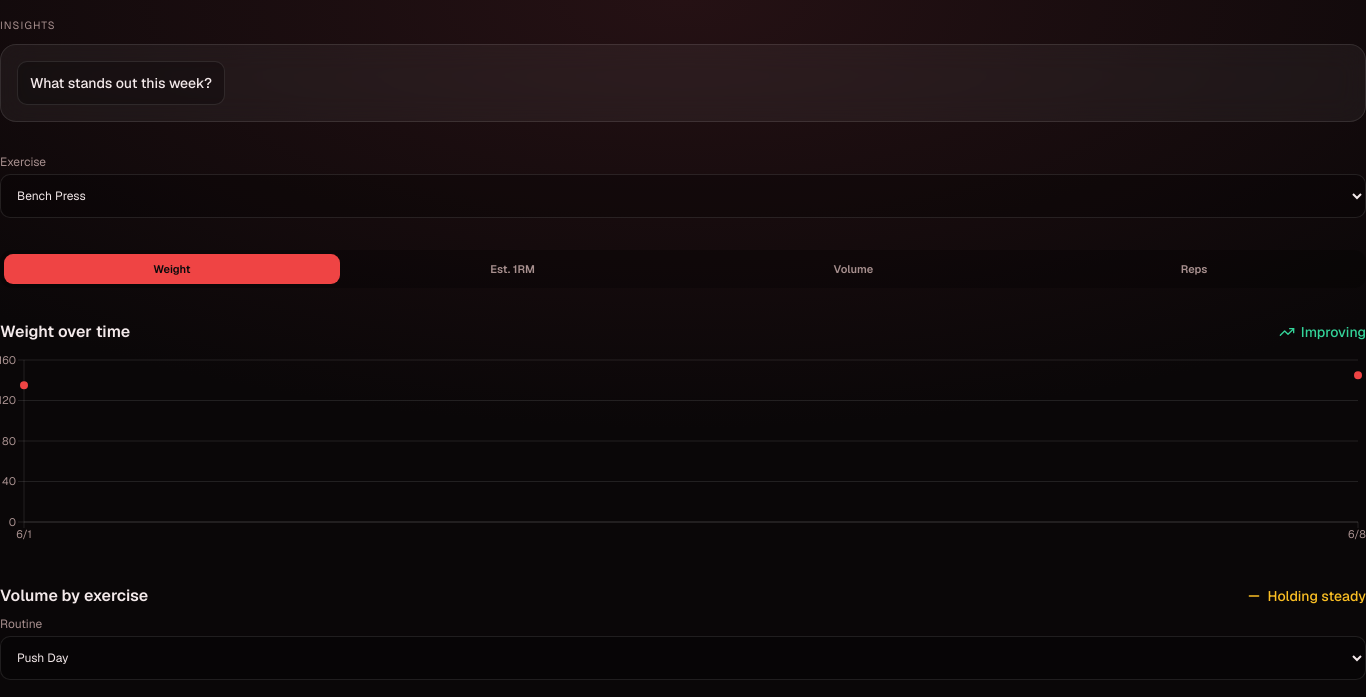
Test: ProgressView routine section › switches the routine series when a different routine is picked
Select "Leg Day" in the dropdown labelled "Routine" at (683, 658), box [0,636,1365,680]
(page scrolled)
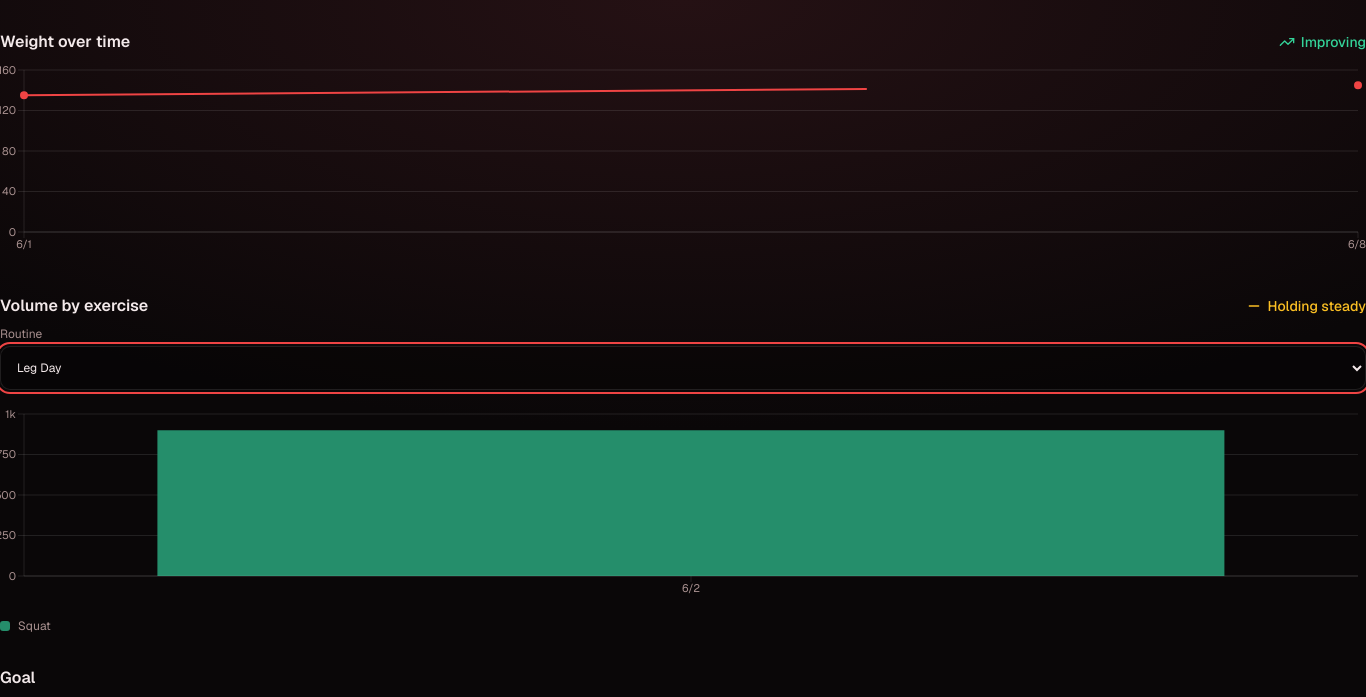
Expected: the list named "Exercises" reads "Squat", [18,618,51,634]
